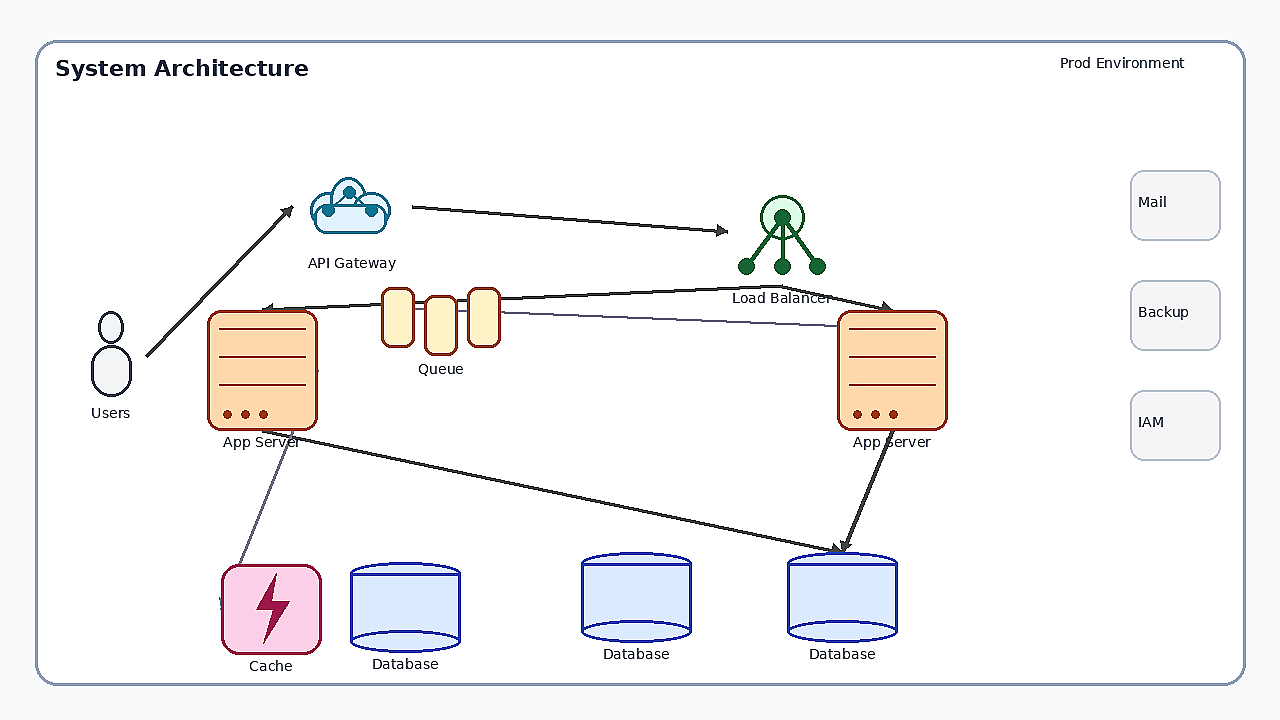API Gateway: (292, 161, 412, 251)
Application Server: (837, 310, 947, 430), (207, 310, 317, 430)
Cache: (221, 564, 321, 654)
Database: (787, 552, 897, 642), (581, 552, 691, 642), (350, 562, 460, 652)
Load Balancer: (727, 176, 837, 286)
Message Queue: (381, 287, 501, 357)
User: (76, 311, 146, 401)
